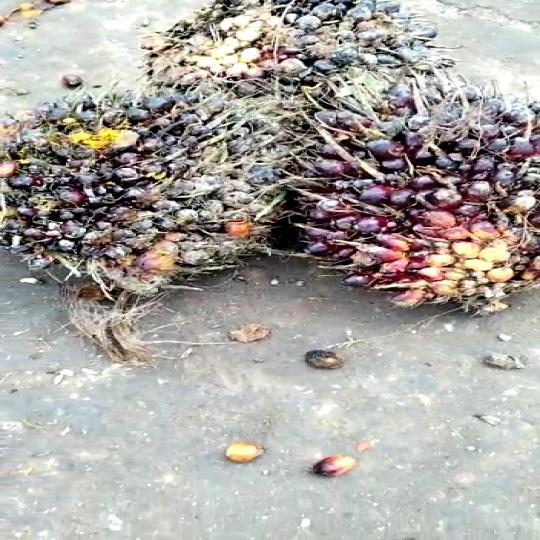kurang masak: (0, 92, 295, 304), (285, 86, 540, 308), (144, 0, 445, 132)
